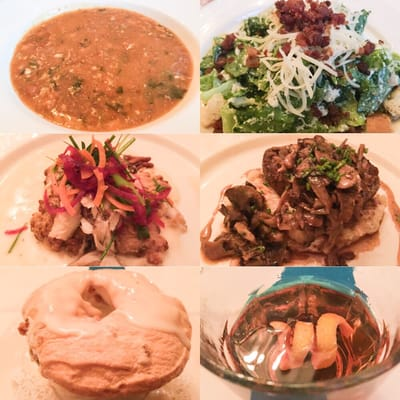sushi: (200, 266, 398, 398), (8, 4, 200, 132)
